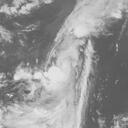cyclone: (34, 36, 90, 116)
